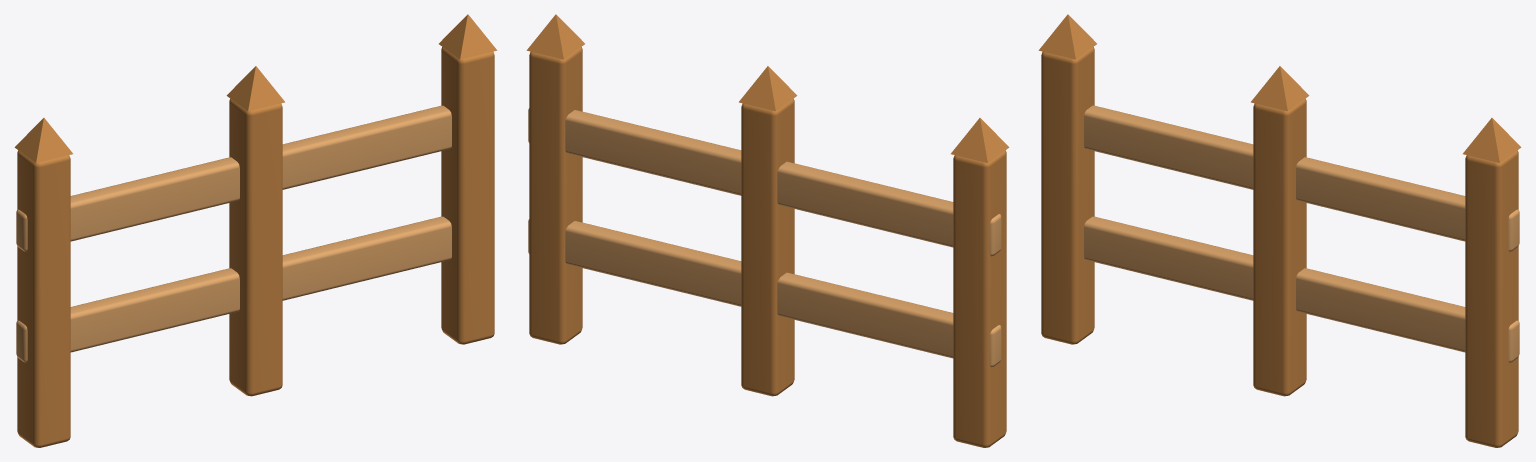
The model's file is Fence.fbx.
3 views of the same model, side by side, from view 1: azimuth 30°, elevation 25°; view 2: azimuth 150°, elevation 25°; view 3: azimuth 330°, elevation 25° (orthographic).
Parts seen in each view (by area): view 1: Fence; view 2: Fence; view 3: Fence.
Part boxes in pixels (x1,y1,x2,y2): Fence: (14,14,497,447); Fence: (526,14,1009,447); Fence: (1038,14,1521,447).
Bounding box in the file's own units: 4.4 × 2.9 × 0.3536.
1 material, 1 textured.
